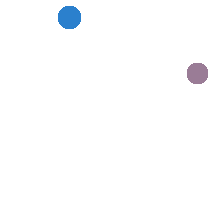circle: (58, 6, 80, 28), (187, 63, 207, 83)
